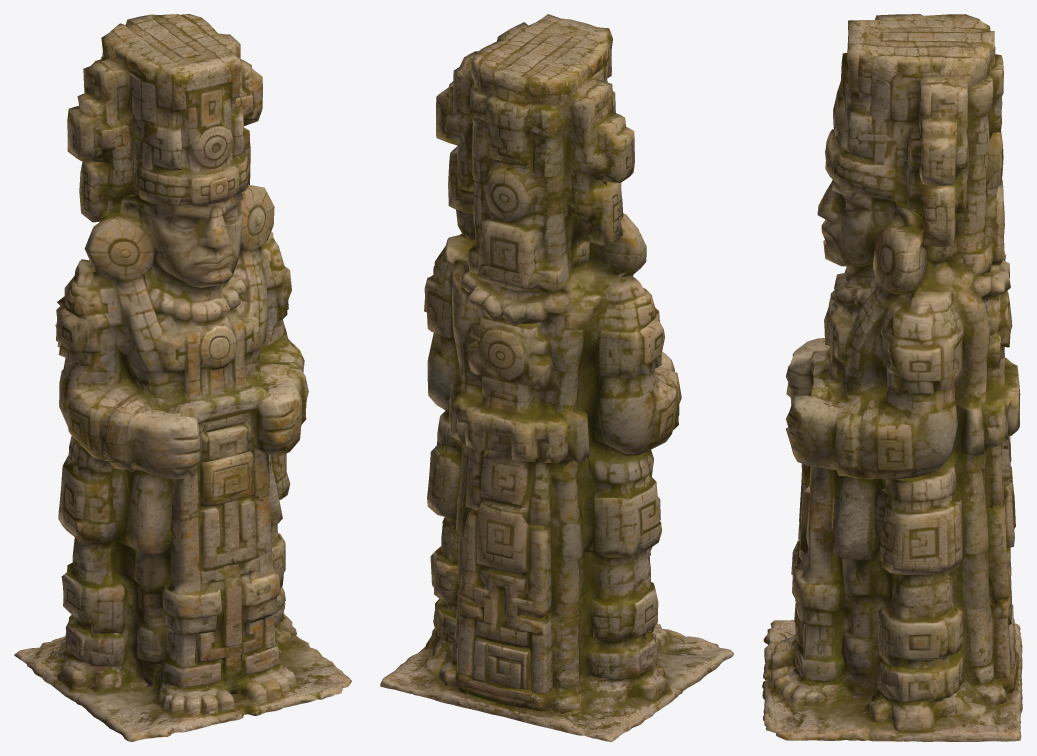
File: PUZ_GuardianMaya_01_LOD0.fbx
3 views of the same model, side by side, from view 1: azimuth 30°, elevation 25°; view 2: azimuth 150°, elevation 25°; view 3: azimuth 270°, elevation 25° (orthographic). The views are drawn at different scales.
Visible parts, largest first — view 1: PUZ_GuardianMaya_01_LOD0; view 2: PUZ_GuardianMaya_01_LOD0; view 3: PUZ_GuardianMaya_01_LOD0.
Boxes of the visible parts, x1=… form: PUZ_GuardianMaya_01_LOD0: x1=14, y1=14, x2=351, y2=741; PUZ_GuardianMaya_01_LOD0: x1=380, y1=14, x2=733, y2=741; PUZ_GuardianMaya_01_LOD0: x1=762, y1=14, x2=1022, y2=741.
Bounding box in the file's own units: 0.7599 × 1.93 × 0.7043.
